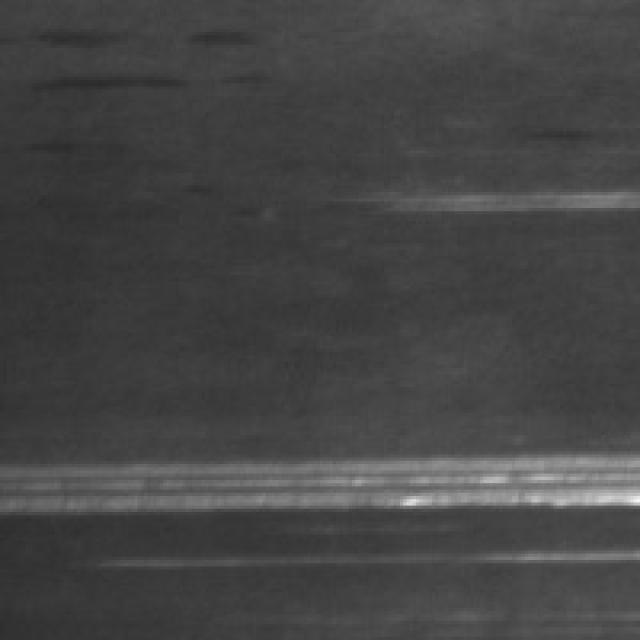scratches: (6, 432, 640, 522), (342, 176, 640, 221)
